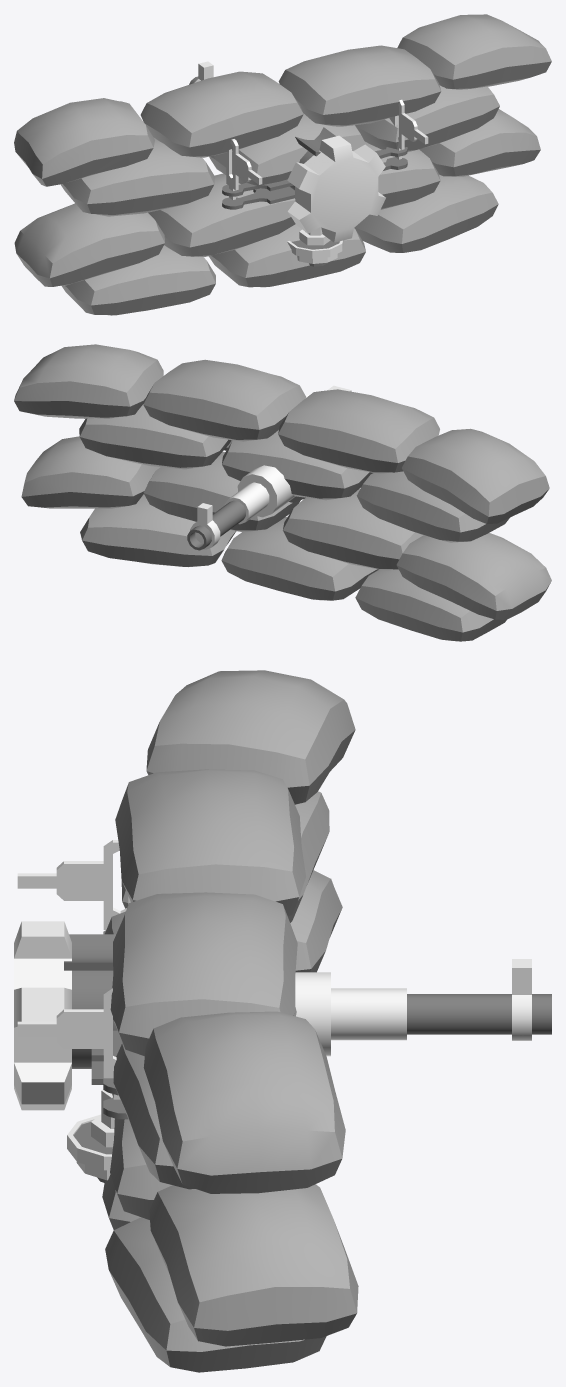
File: slag_pillbox.glb
3 renders of one model, top to bottom at view 1: azimuth 30°, elevation 25°; view 2: azimuth 150°, elevation 25°; view 3: azimuth 270°, elevation 25°, orthographic. The views are drawn at different scales.
Visible parts, largest first — view 1: Body, Turret; view 2: Body, Turret; view 3: Body, Turret.
Boxes of the visible parts, <box> form: Body: <box>14,14,551,315</box>; Turret: <box>189,61,428,266</box>; Body: <box>14,344,551,641</box>; Turret: <box>187,385,351,550</box>; Body: <box>102,670,358,1372</box>; Turret: <box>14,840,551,1182</box>.
Size of the model in its own units: 6 by 2.28 by 3.
2 materials, 1 textured.
